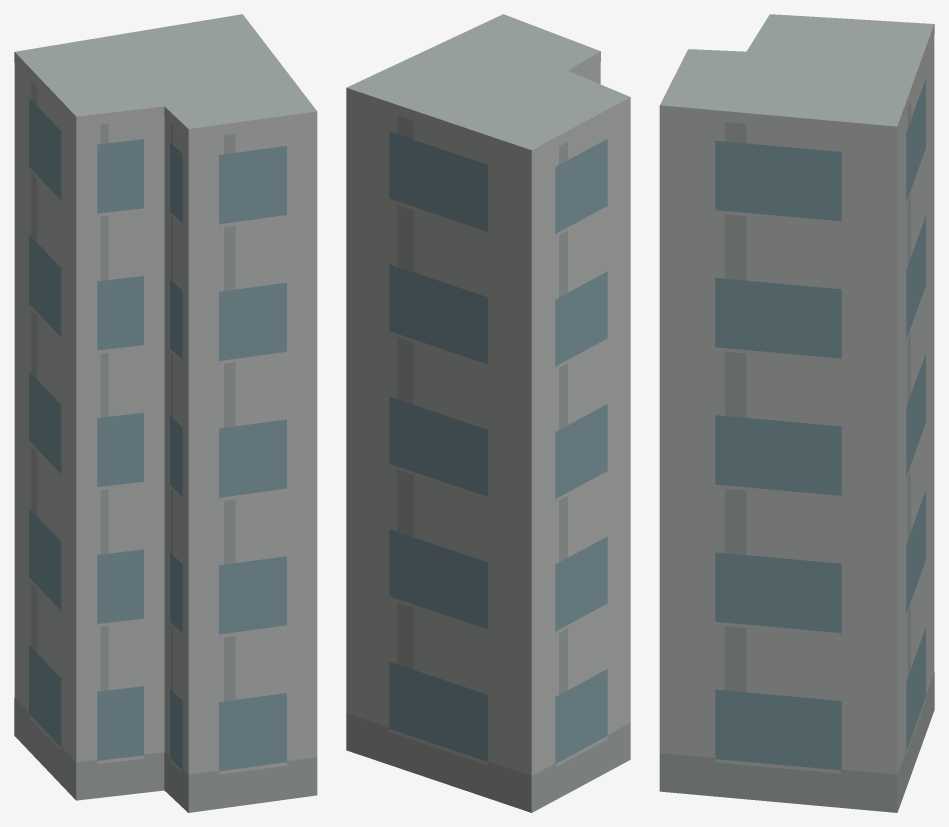
File: survey-upis-32634826.glb
The picture shows the model from 3 angles, left to right: view 1: azimuth 30°, elevation 25°; view 2: azimuth 150°, elevation 25°; view 3: azimuth 270°, elevation 25°; orthographic projection. The views are drawn at different scales.
Visible parts, largest first — view 1: survey-upis-32634826.tmp; view 2: survey-upis-32634826.tmp; view 3: survey-upis-32634826.tmp.
Boxes of the visible parts, <box> form: survey-upis-32634826.tmp: <box>14,14,317,812</box>; survey-upis-32634826.tmp: <box>346,14,630,812</box>; survey-upis-32634826.tmp: <box>659,14,934,812</box>.
Size of the model in its own units: 5.38 by 15.25 by 5.54.
